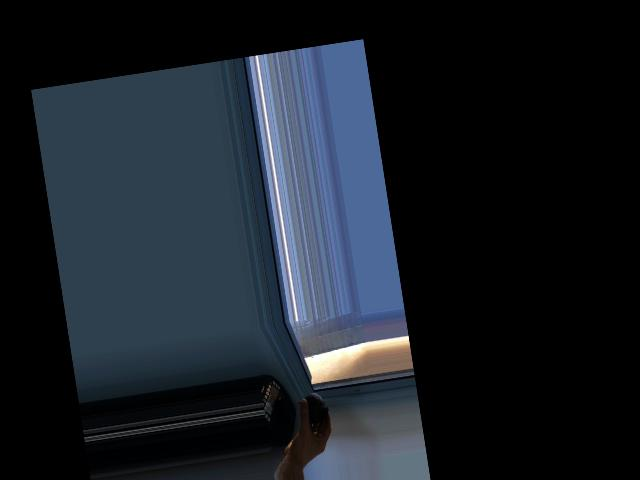beet: (295, 390, 330, 429)
